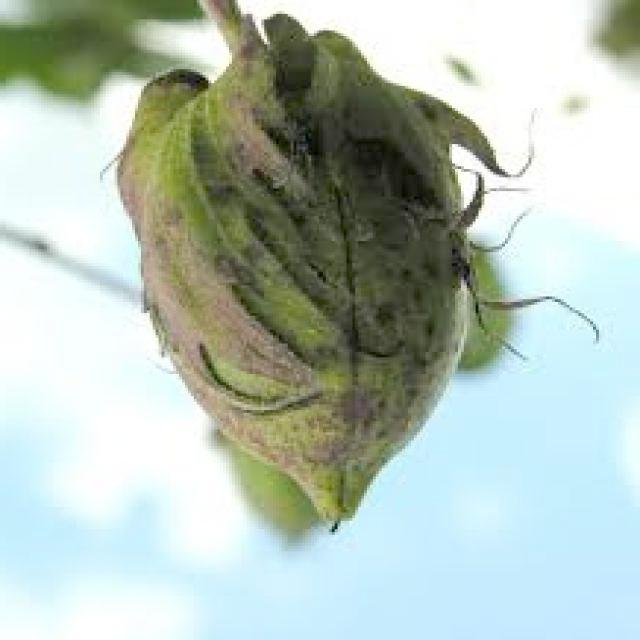Early Boll: (114, 20, 480, 538)
